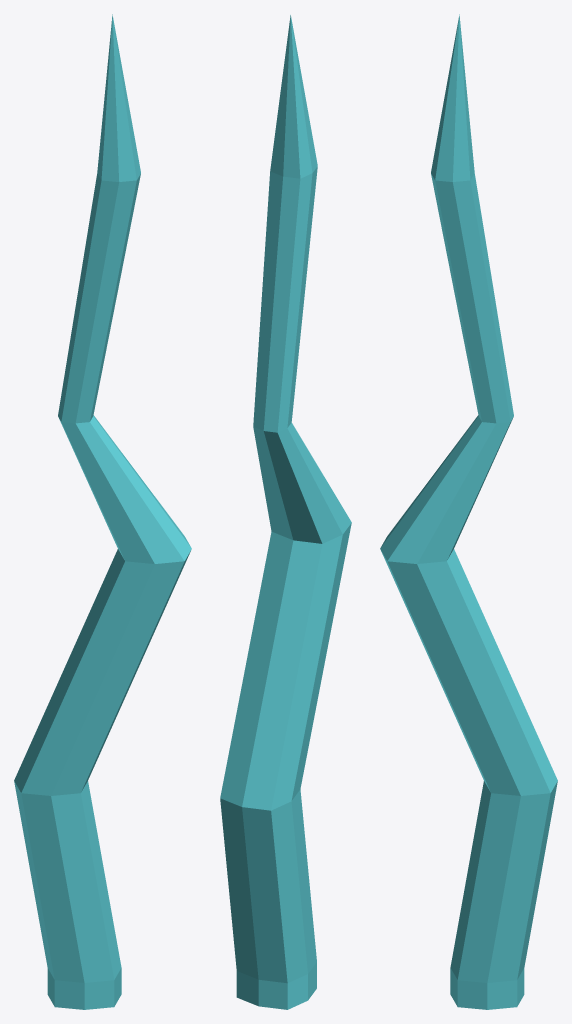
Rendered from StormvineStage2.fbx.
The picture shows the model from 3 angles, left to right: view 1: azimuth 90°, elevation 25°; view 2: azimuth 150°, elevation 25°; view 3: azimuth 270°, elevation 25°; orthographic projection.
Parts seen in each view (by area): view 1: Cube.003; view 2: Cube.003; view 3: Cube.003.
Part boxes in pixels (bbox=[...]): Cube.003: bbox=[14, 14, 191, 1009]; Cube.003: bbox=[220, 15, 351, 1009]; Cube.003: bbox=[380, 14, 557, 1009].
Size of the model in its own units: 6.91 by 103 by 16.87.
